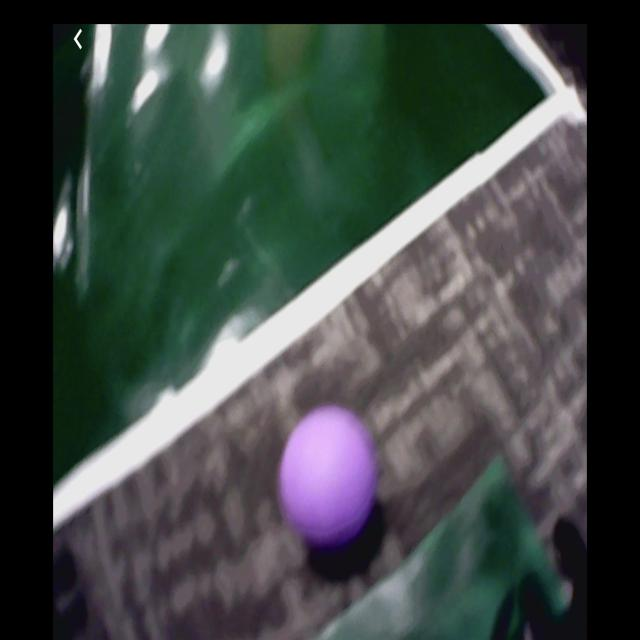ball: (278, 411, 372, 550)
